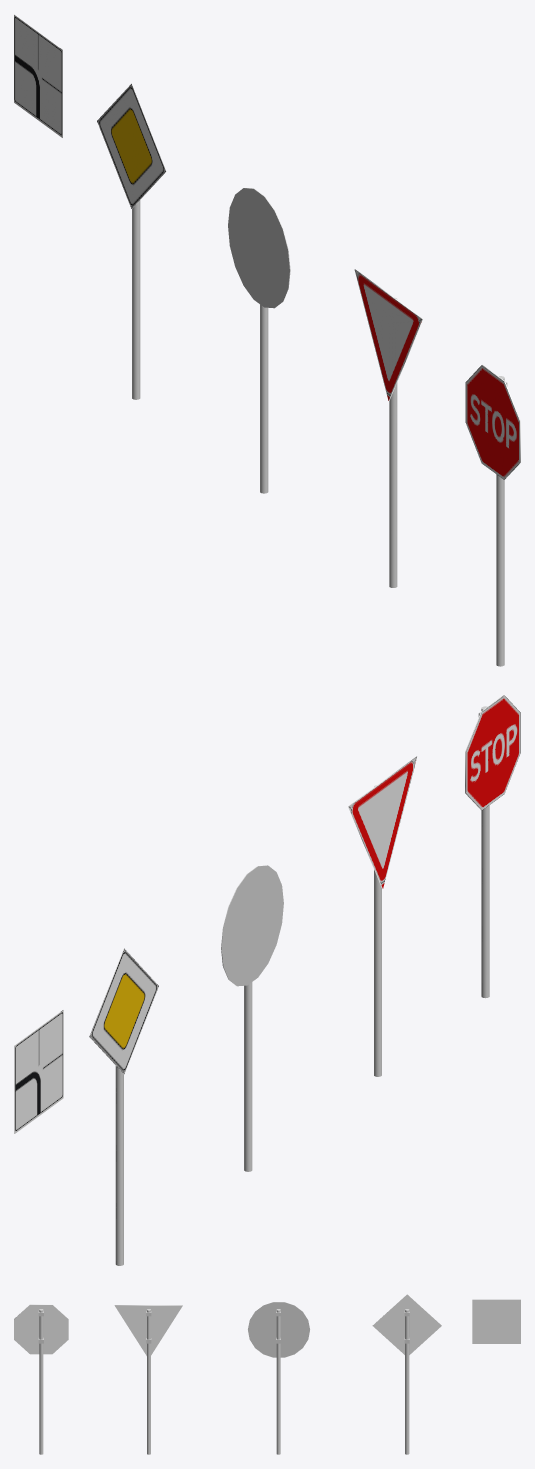
The model's file is AllsignsModels.FBX.
The picture shows the model from 3 angles, top to bottom: view 1: azimuth 30°, elevation 25°; view 2: azimuth 150°, elevation 25°; view 3: azimuth 270°, elevation 25°; orthographic projection. The views are drawn at different scales.
Visible parts, largest first — view 1: Cylinder009, Cylinder012, Cylinder002, Box009, Cylinder011, Cylinder005, Cylinder001, Cylinder007, Cylinder003; view 2: Cylinder009, Cylinder012, Cylinder002, Box009, Cylinder011, Cylinder001, Cylinder007, Cylinder003, Cylinder005; view 3: Cylinder009, Box009, Cylinder012, Cylinder002, Cylinder011, Cylinder003, Cylinder007, Cylinder001, Cylinder005.
Boxes of the visible parts, x1,y1,x2,y2 form: Cylinder009: [228, 188, 290, 308]; Cylinder012: [465, 365, 520, 479]; Cylinder002: [97, 83, 166, 208]; Box009: [14, 14, 62, 137]; Cylinder011: [354, 269, 423, 400]; Cylinder005: [389, 297, 397, 587]; Cylinder001: [132, 200, 140, 399]; Cylinder007: [496, 376, 504, 666]; Cylinder003: [260, 304, 268, 493]; Cylinder009: [221, 865, 283, 986]; Cylinder012: [465, 695, 520, 810]; Cylinder002: [89, 948, 158, 1074]; Box009: [14, 1010, 63, 1133]; Cylinder011: [348, 756, 416, 888]; Cylinder001: [115, 1066, 123, 1265]; Cylinder007: [481, 706, 489, 998]; Cylinder003: [244, 982, 252, 1171]; Cylinder005: [374, 785, 381, 1076]; Cylinder009: [248, 1302, 309, 1357]; Box009: [472, 1299, 520, 1343]; Cylinder012: [14, 1304, 68, 1354]; Cylinder002: [372, 1294, 441, 1354]; Cylinder011: [114, 1305, 182, 1355]; Cylinder003: [276, 1309, 280, 1454]; Cylinder007: [39, 1309, 43, 1454]; Cylinder001: [405, 1309, 409, 1454]; Cylinder005: [147, 1309, 150, 1454].
Bounding box in the file's own units: 1.2 × 27.69 × 80.28.
